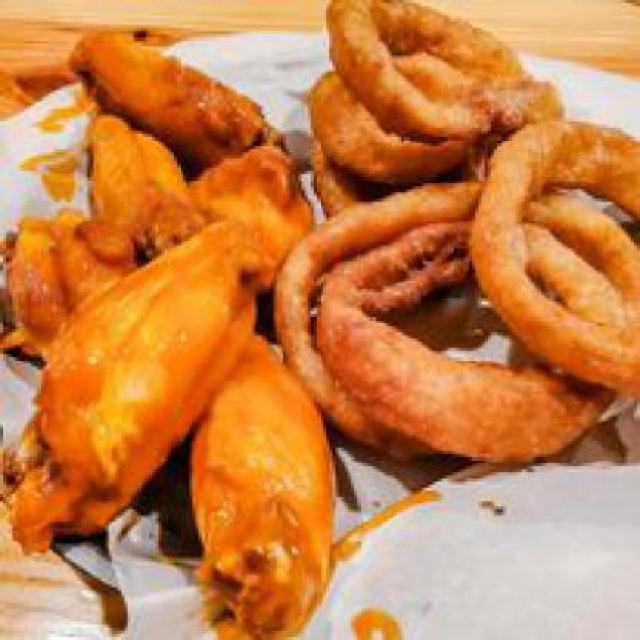chicken wings: (12, 18, 342, 624)
onion rings: (273, 3, 638, 469)
